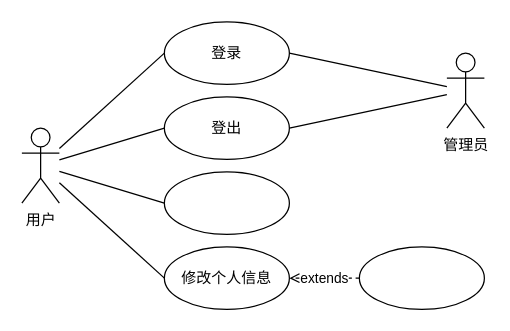
Image size: 510x331. Some labels were removed from this diagram. Here are the shapes that lost their labels. From the top down, the centre of each, then its label:
At point (226, 202): "查看个人信息".
At point (421, 277): "上传头像".
